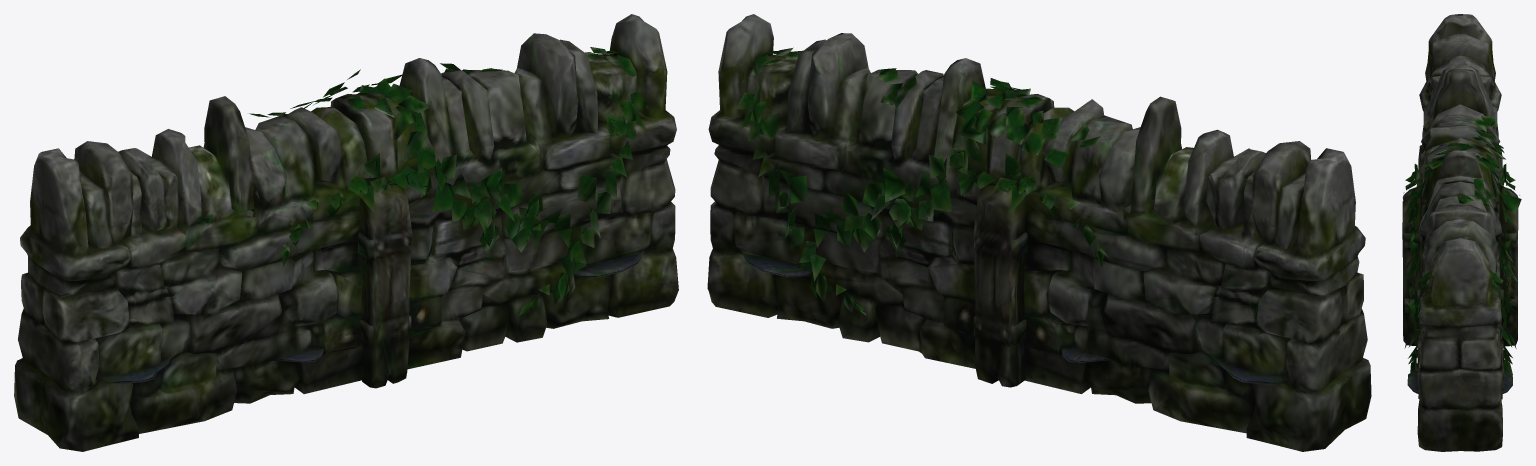
The model's file is stone_wall.glb.
The picture shows the model from 3 angles, left to right: view 1: azimuth 30°, elevation 25°; view 2: azimuth 150°, elevation 25°; view 3: azimuth 270°, elevation 25°; orthographic projection. The views are drawn at different scales.
Parts seen in each view (by area): view 1: stone_wall_p2; view 2: stone_wall_p2; view 3: stone_wall_p2.
Boxes of the visible parts, x1=… form: stone_wall_p2: x1=14, y1=14, x2=678, y2=451; stone_wall_p2: x1=707, y1=14, x2=1371, y2=451; stone_wall_p2: x1=1402, y1=14, x2=1521, y2=451.
Size of the model in its own units: 2 by 0.8924 by 0.4443.
1 material, 1 textured.
